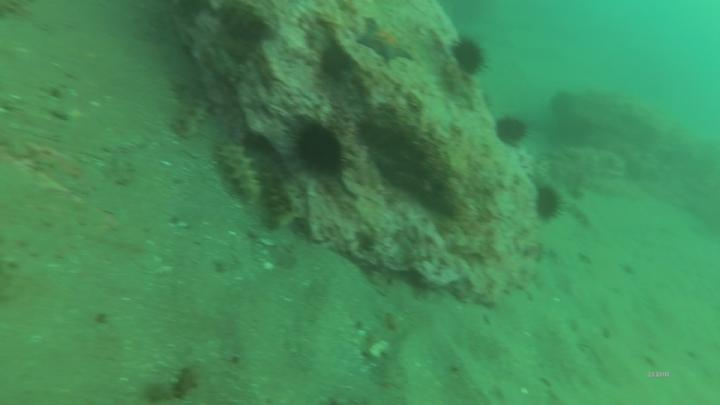echinus: (279, 110, 352, 182), (447, 34, 493, 78), (533, 180, 567, 228), (493, 112, 531, 151)
holothurian: (257, 154, 301, 231), (214, 137, 263, 206), (175, 95, 212, 137)
starfish: (360, 18, 419, 69)
